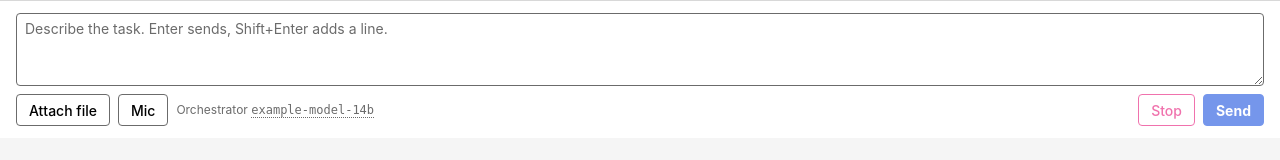
Test: Composer › should put transcribed speech in the box for review and never send it
The image size is (1280, 160).
Click the button with aria-label "Record voice input".
click(143, 110)  # box left=118, top=94, right=168, bottom=126
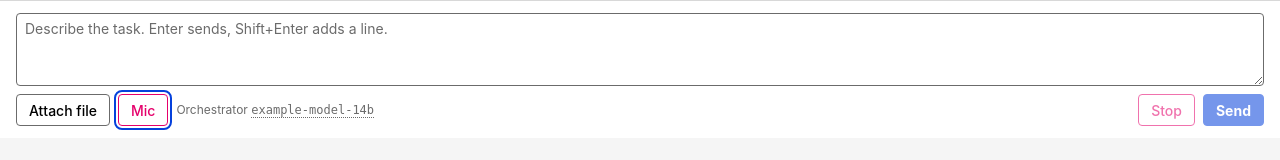
Click the button with aria-label "Stop recording".
click(143, 110)  # box left=118, top=94, right=168, bottom=126
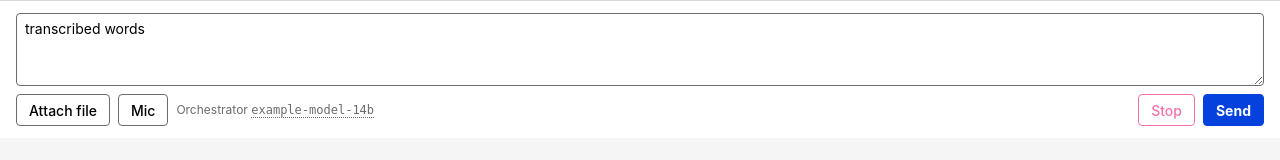
Expected: the text box named "Message" holds "transcribed words", left=16, top=13, right=1264, bottom=86
